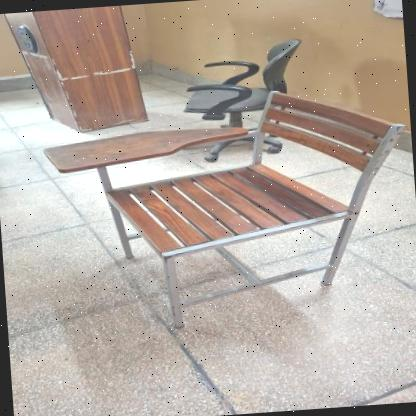chair: (35, 77, 416, 335), (171, 32, 311, 164)
